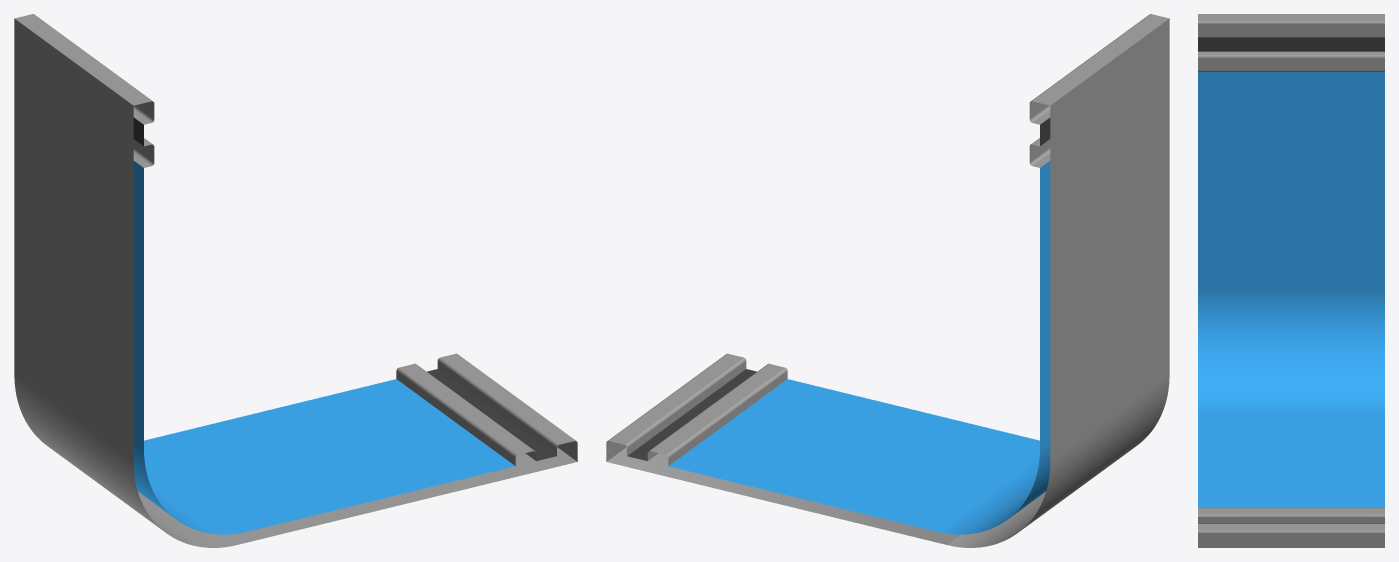
The model's file is SM_Base_Center.fbx.
The picture shows the model from 3 angles, left to right: view 1: azimuth 30°, elevation 25°; view 2: azimuth 150°, elevation 25°; view 3: azimuth 270°, elevation 25°; orthographic projection. The views are drawn at different scales.
Parts seen in each view (by area): view 1: SM_Base_Center; view 2: SM_Base_Center; view 3: SM_Base_Center.
Part boxes in pixels (x1,y1,x2,y2): SM_Base_Center: (14, 14, 577, 547); SM_Base_Center: (606, 14, 1169, 547); SM_Base_Center: (1198, 14, 1384, 547).
Bounding box in the file's own units: 4.3 × 4.3 × 2.
